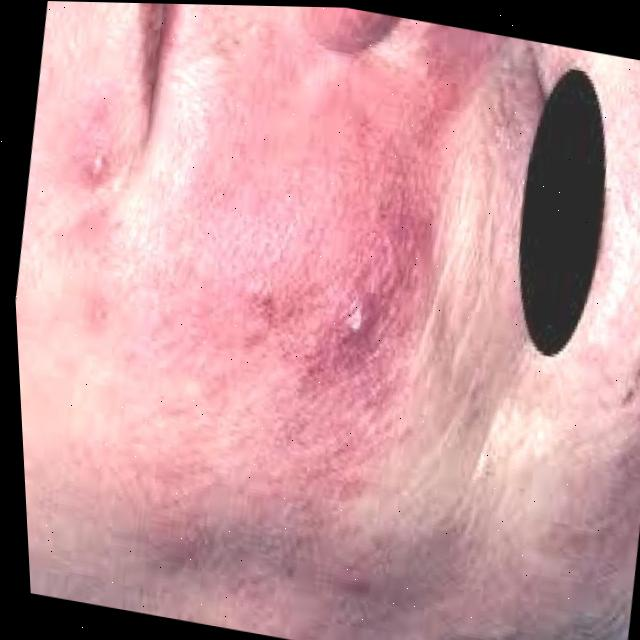Rosacea: (266, 188, 449, 401)
